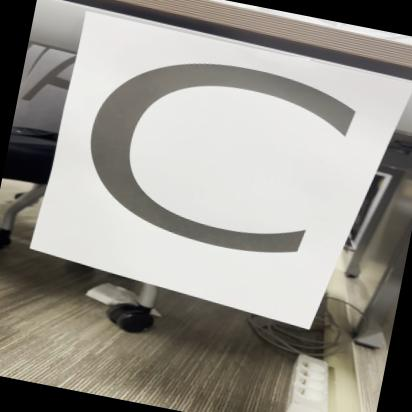seat: (49, 19, 381, 333)
